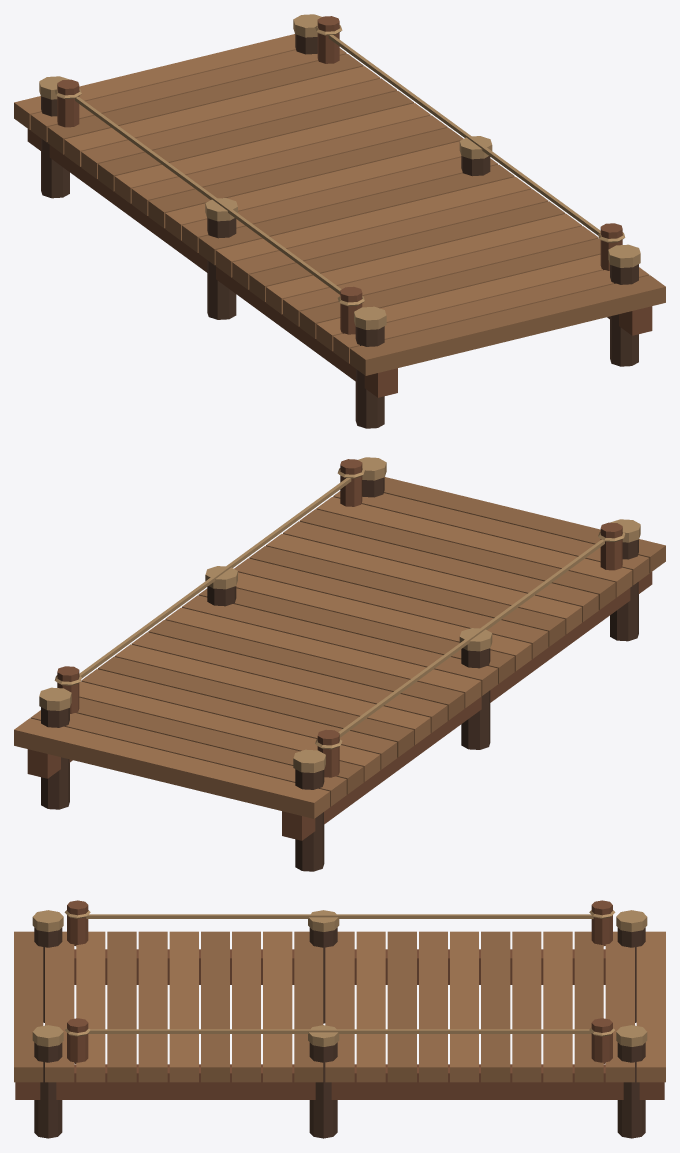
Rendered from fishing_dock.glb.
3 views of the same model, one above another, from view 1: azimuth 30°, elevation 25°; view 2: azimuth 150°, elevation 25°; view 3: azimuth 270°, elevation 25° (orthographic). The views are drawn at different scales.
Visible parts, largest first — view 1: geometry; view 2: geometry; view 3: geometry.
Part boxes in pixels (<box>): geometry: <box>14,14,665,428</box>; geometry: <box>14,457,665,871</box>; geometry: <box>14,900,665,1138</box>.
Size of the model in its own units: 1.96 by 0.75 by 3.98.
